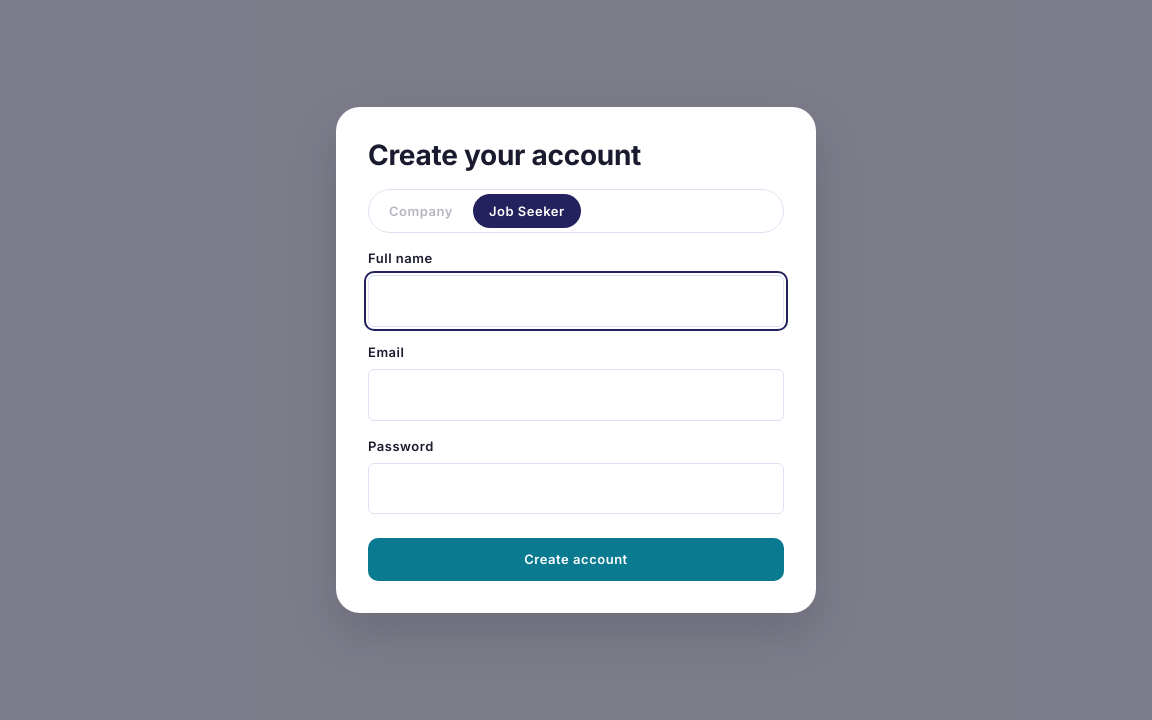
Test: ApplyGateModal › blocks submit with blank fields and sends no request
This screenshot has width=1152, height=720.
Click the button "Create account": [576, 560] box [368, 538, 784, 581]
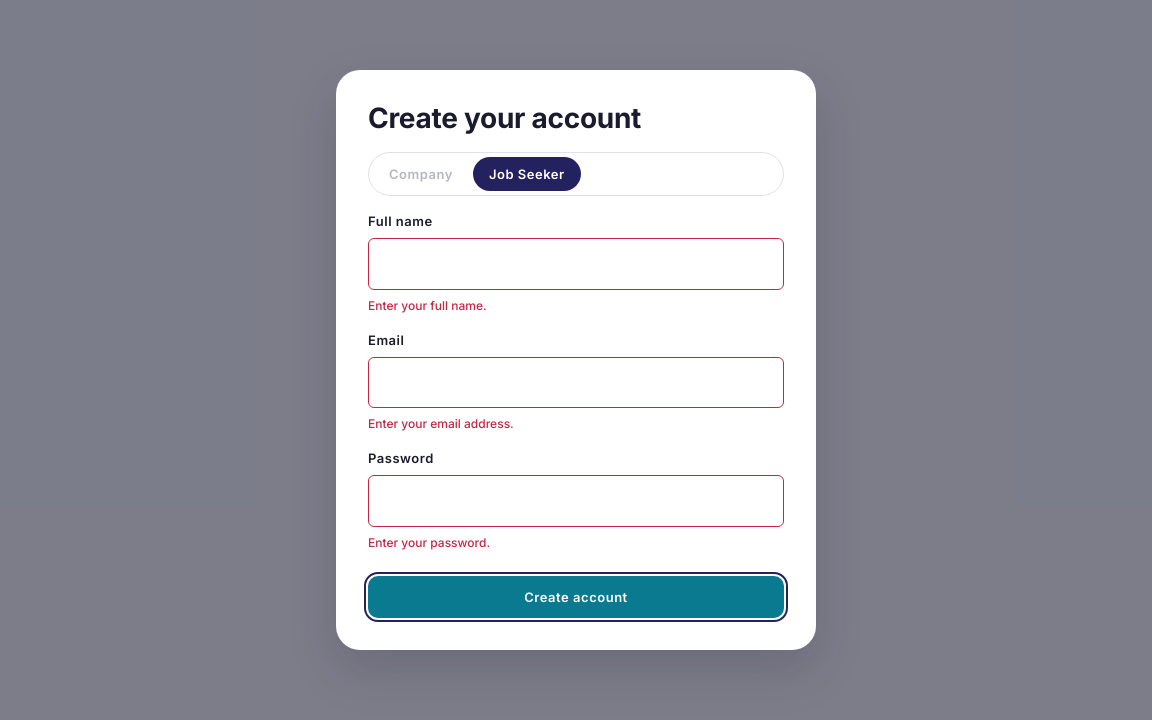
Expected: the text "Enter your full name." is shown, [368, 298, 487, 313]
Expected: the text "Enter your email address." is shown, [368, 416, 514, 431]
Expected: the text "Enter your password." is shown, [368, 535, 490, 550]
